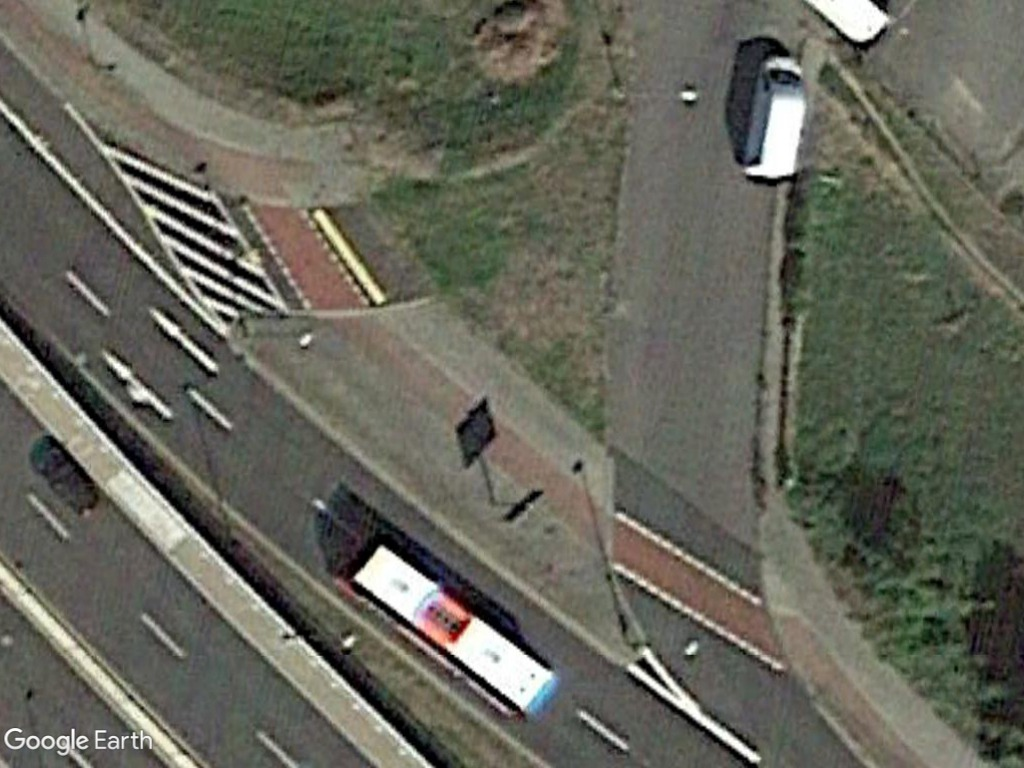bus: (346, 541, 567, 730)
car: (742, 44, 810, 189)
